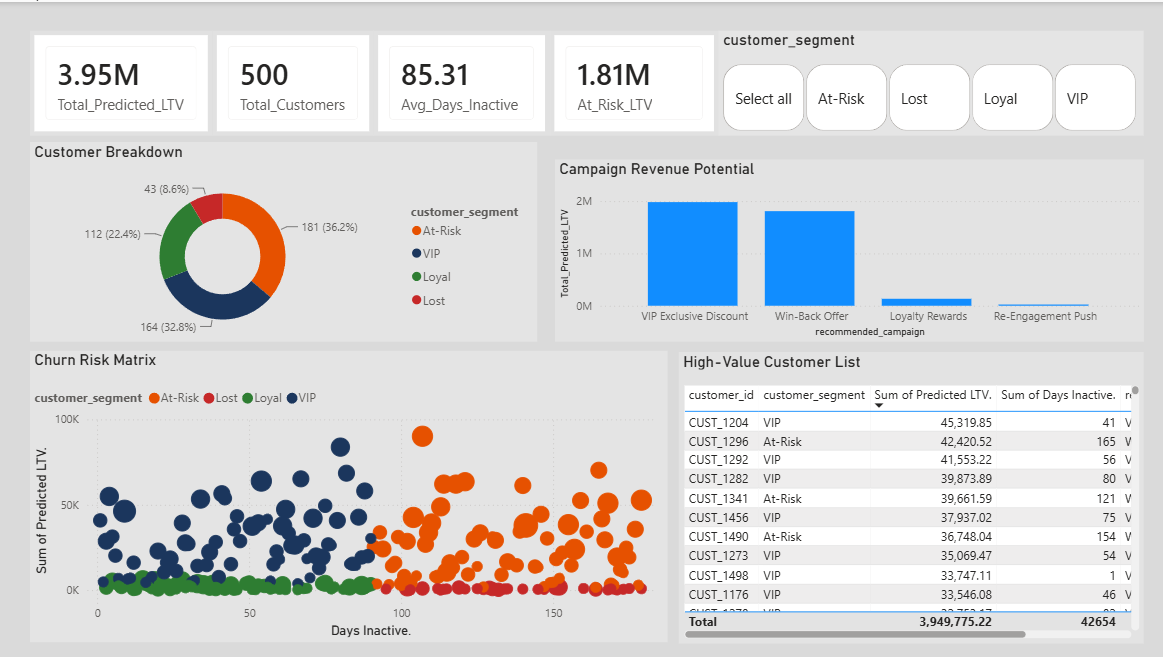

Layout of this report page (visuals, bound fields, positions):
{"tool":"powerbi","page":{"name":"Page 1","canvas":[1280,720],"ordinal":0},"visuals":[{"type":"cardVisual","fields":{"Data":["enterprise_cdp real_time_customer_cdp.Total_Predicted_LTV"]},"box":[32.9,31.6,200.3,115.3],"z":0},{"type":"cardVisual","fields":{"Data":["enterprise_cdp real_time_customer_cdp.At_Risk_LTV"]},"box":[603.8,31.6,185.2,115.3],"z":1000},{"type":"cardVisual","fields":{"Data":["enterprise_cdp real_time_customer_cdp.Avg_Days_Inactive"]},"box":[410.3,31.6,193.5,115.3],"z":2000},{"type":"cardVisual","fields":{"Data":["enterprise_cdp real_time_customer_cdp.Total_Customers"]},"box":[233.3,31.6,177,115.3],"z":3000},{"type":"donutChart","title":"Customer Breakdown","fields":{"Category":["enterprise_cdp real_time_customer_cdp.customer_segment"],"Y":["enterprise_cdp real_time_customer_cdp.Total_Customers"]},"box":[32.9,153.7,557.1,219.6],"z":4000},{"type":"clusteredColumnChart","title":"Campaign Revenue Potential","fields":{"Category":["enterprise_cdp real_time_customer_cdp.recommended_campaign"],"Y":["enterprise_cdp real_time_customer_cdp.Total_Predicted_LTV"]},"box":[609.3,172.9,646.3,200.3],"z":5000},{"type":"scatterChart","title":"Churn Risk Matrix","fields":{"Series":["enterprise_cdp real_time_customer_cdp.customer_segment"],"Y":["Sum(enterprise_cdp real_time_customer_cdp.predicted_12m_ltv)"],"X":["enterprise_cdp real_time_customer_cdp.days_since_last_order"],"Size":["CountNonNull(enterprise_cdp real_time_customer_cdp.customer_id)"]},"box":[32.9,382.8,699.8,319.7],"z":6000},{"type":"tableEx","title":"High-Value Customer List","fields":{"Values":["enterprise_cdp real_time_customer_cdp.customer_id","enterprise_cdp real_time_customer_cdp.customer_segment","Sum(enterprise_cdp real_time_customer_cdp.predicted_12m_ltv)","Sum(enterprise_cdp real_time_customer_cdp.days_since_last_order)","enterprise_cdp real_time_customer_cdp.recommended_campaign"]},"box":[745.1,384.2,510.5,319.7],"z":7000},{"type":"advancedSlicerVisual","fields":{"Values":["enterprise_cdp real_time_customer_cdp.customer_segment"]},"box":[789.7,31.4,466.1,115.5],"z":8000}]}

Visuals, with their boxes in screenshot pixels (x1, y1, x2, y2), scaled from the page's 1280x720 canvas onto the 1163x657 screenshot:
cardVisual - enterprise_cdp real_time_customer_cdp.Total_Predicted_LTV: region(30, 29, 212, 134)
cardVisual - enterprise_cdp real_time_customer_cdp.At_Risk_LTV: region(549, 29, 717, 134)
cardVisual - enterprise_cdp real_time_customer_cdp.Avg_Days_Inactive: region(373, 29, 549, 134)
cardVisual - enterprise_cdp real_time_customer_cdp.Total_Customers: region(212, 29, 373, 134)
"Customer Breakdown" donutChart: region(30, 140, 536, 341)
"Campaign Revenue Potential" clusteredColumnChart: region(554, 158, 1141, 341)
"Churn Risk Matrix" scatterChart: region(30, 349, 666, 641)
"High-Value Customer List" tableEx: region(677, 351, 1141, 642)
advancedSlicerVisual - enterprise_cdp real_time_customer_cdp.customer_segment: region(718, 29, 1141, 134)
